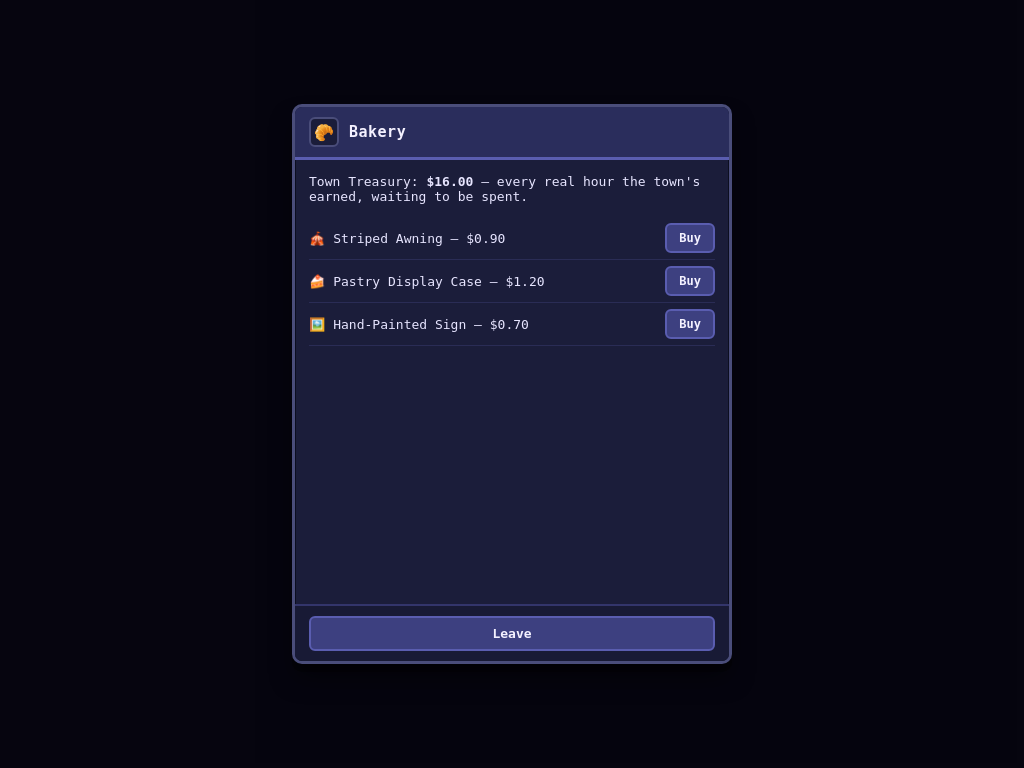
it: BusinessOverlay (business.md) › buying a real good spends the treasury and marks it owned
Click the button "Buy" in the row of "Striped Awning": x=690, y=238 left=665, top=223, right=715, bottom=253
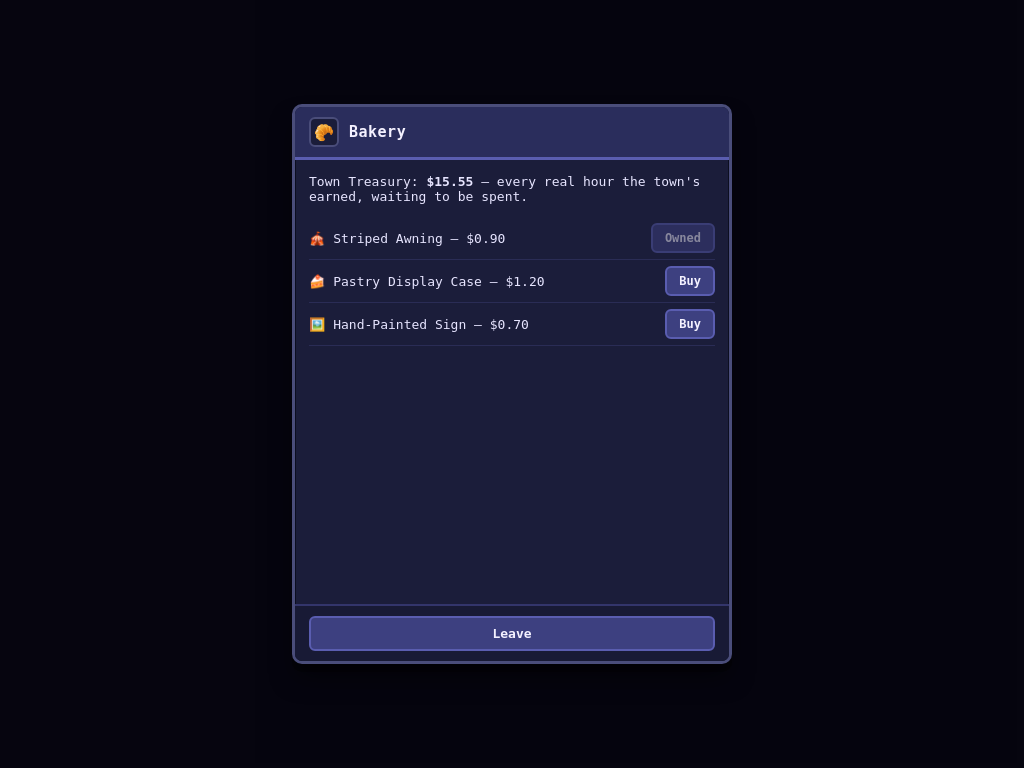
Expected: the button "Owned" is shown, left=651, top=223, right=715, bottom=253
